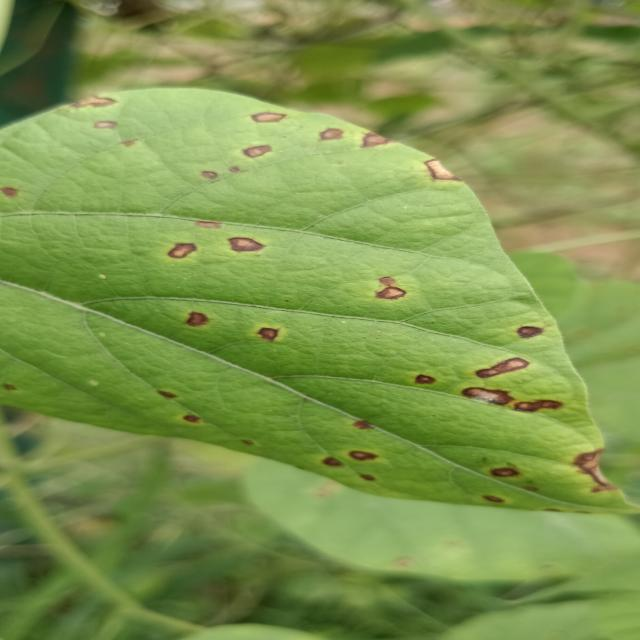Dolicos bean_cercospora leaf spot: (0, 87, 640, 526)
